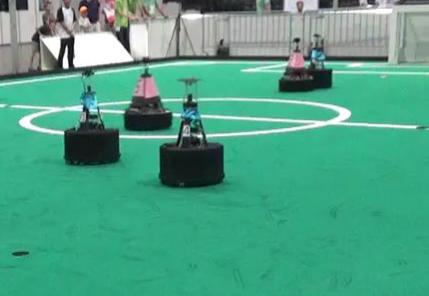robot: (157, 77, 231, 187), (62, 68, 121, 166), (122, 56, 173, 130), (275, 36, 318, 90)
